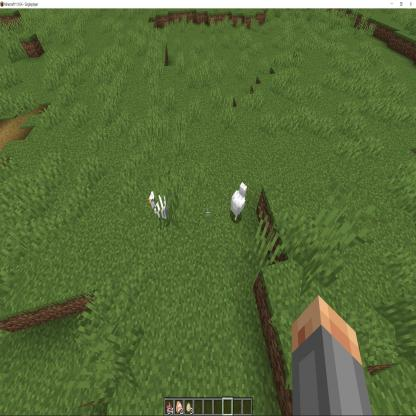minecraft-pigs: (147, 188, 172, 226), (231, 181, 249, 225)
